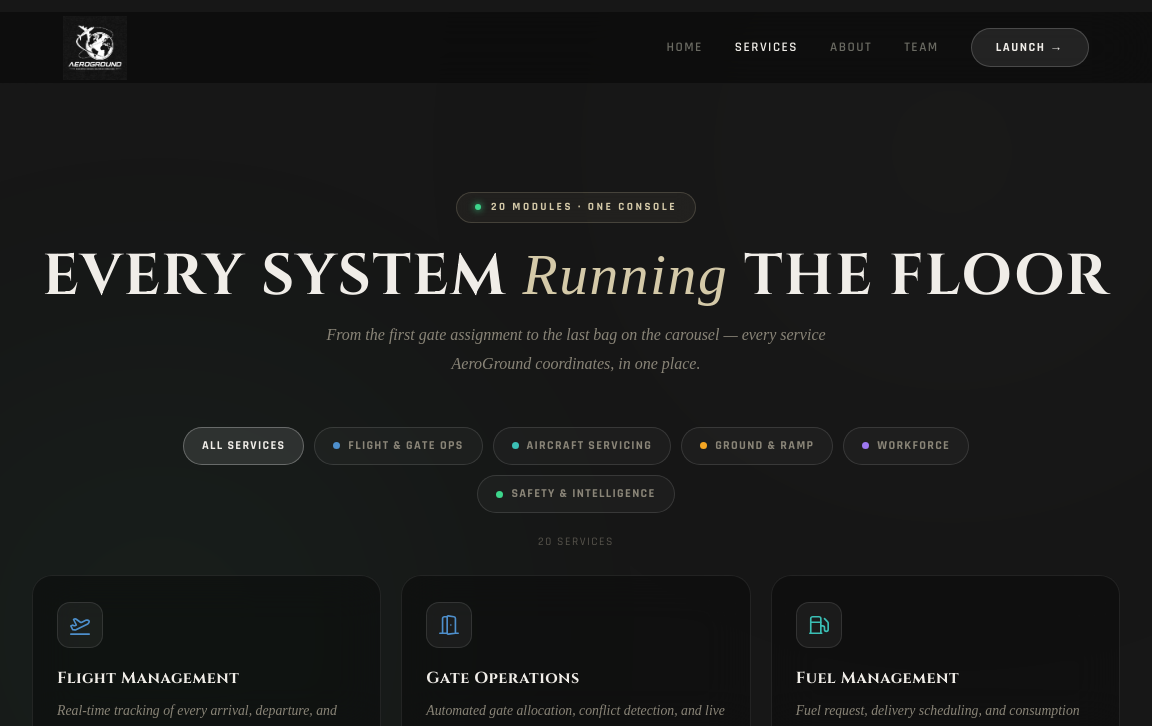
Services › resets back to all services when "All Services" is clicked again
Click the button "Workforce" at coordinates (906, 446), box [843,427,969,465]
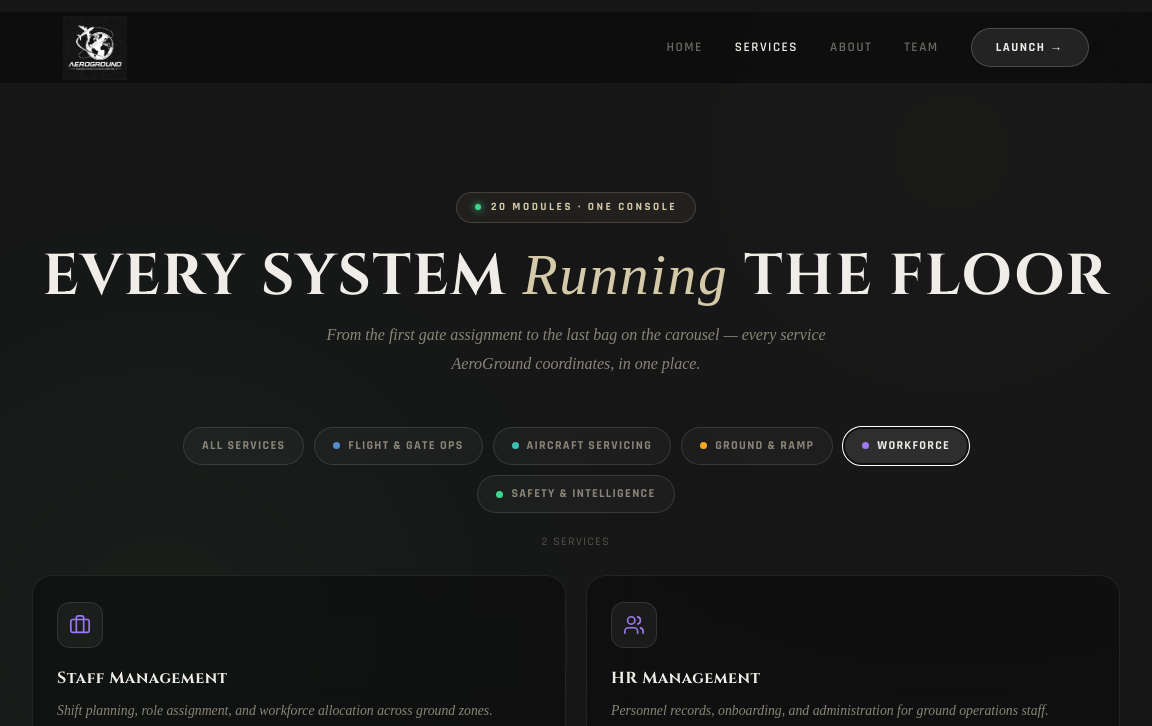
Now the text "2 services" is shown, box [542,534,610,549]
Click the button "All Services" at coordinates (244, 446), box [183,427,304,465]
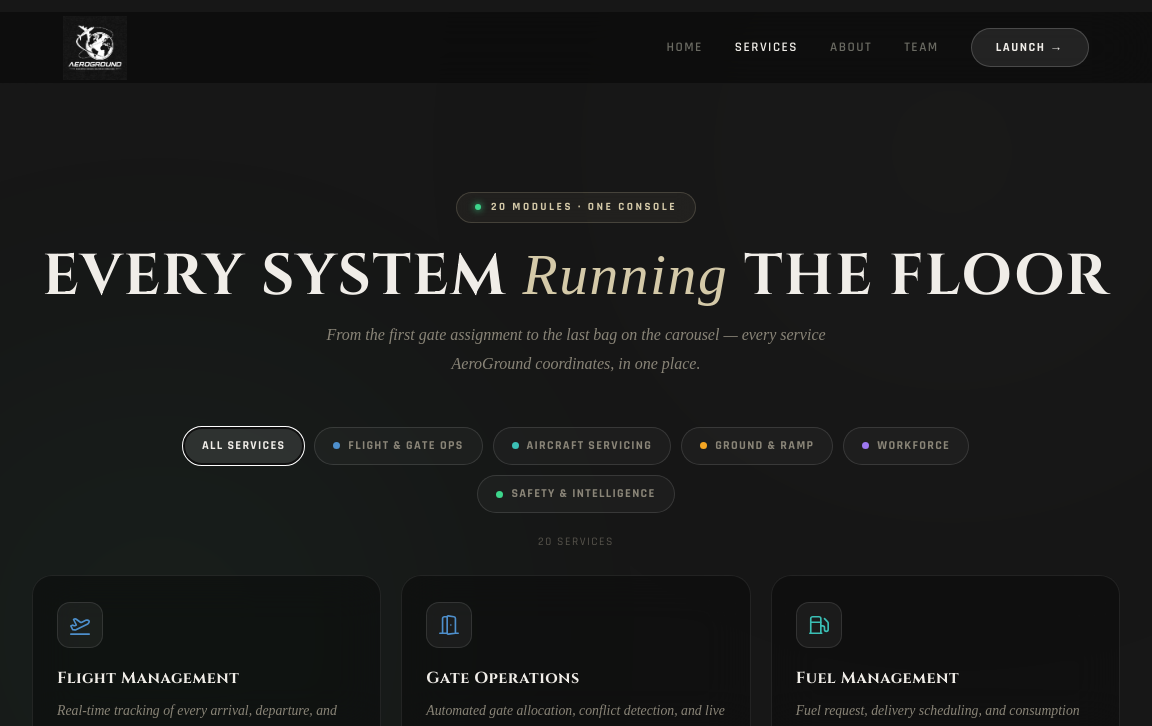
Now the text "20 services" is shown, box [538,534,614,549]
